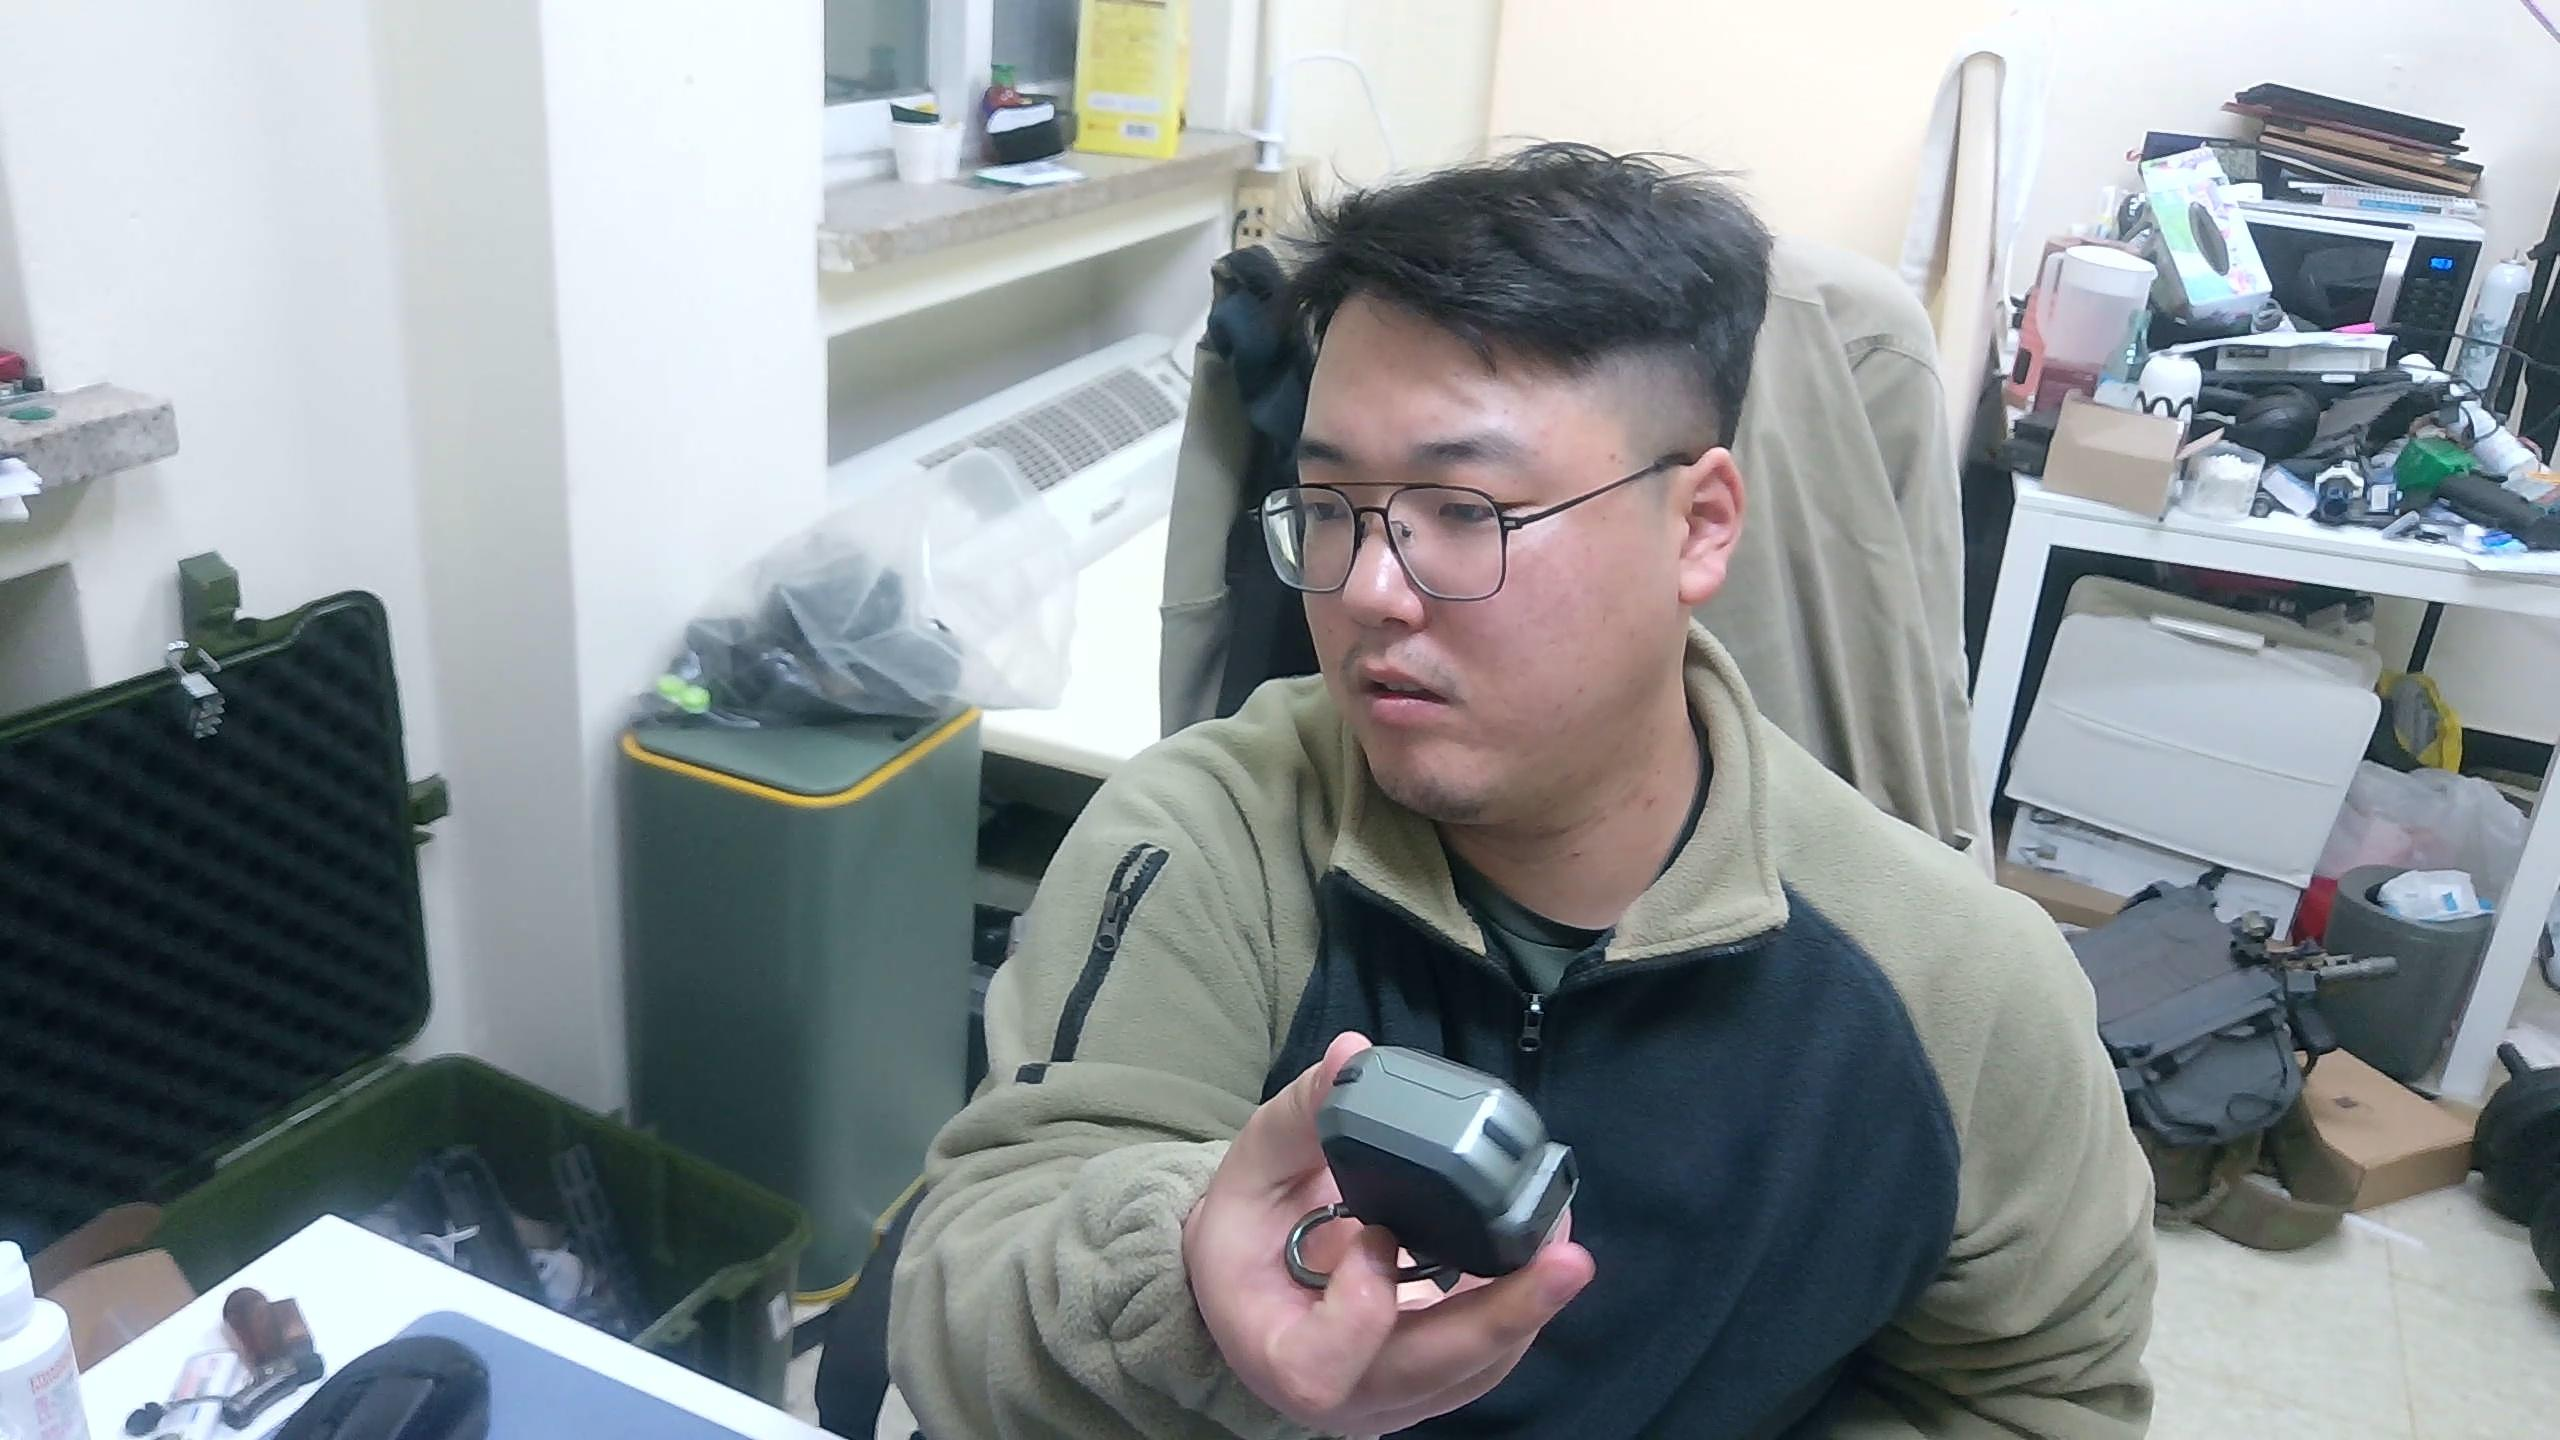blue_pliers: (1315, 1043, 1584, 1282)
